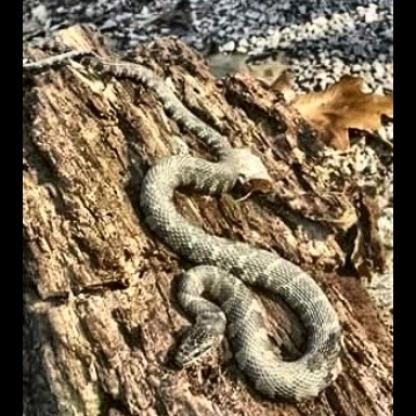Snake: (130, 15, 347, 400)
